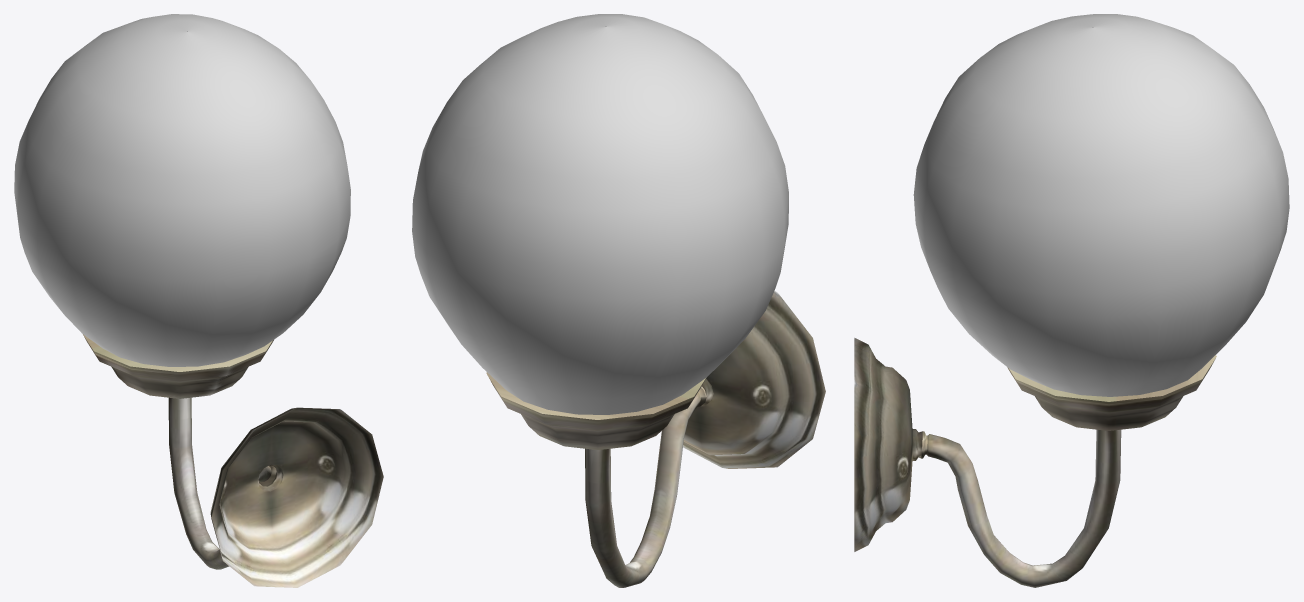
The model's file is Sconce03.fbx.
The picture shows the model from 3 angles, left to right: view 1: azimuth 30°, elevation 25°; view 2: azimuth 150°, elevation 25°; view 3: azimuth 270°, elevation 25°; orthographic projection. The views are drawn at different scales.
Visible parts, largest first — view 1: polySurface79, polySurface80, polySurface78; view 2: polySurface79, polySurface80, polySurface78; view 3: polySurface79, polySurface78, polySurface80.
Part boxes in pixels (bbox=[...]): polySurface79: bbox=[14, 14, 350, 366]; polySurface80: bbox=[210, 407, 383, 587]; polySurface78: bbox=[83, 334, 277, 569]; polySurface79: bbox=[412, 14, 788, 414]; polySurface80: bbox=[683, 291, 825, 468]; polySurface78: bbox=[486, 372, 706, 587]; polySurface79: bbox=[913, 14, 1289, 396]; polySurface78: bbox=[921, 355, 1216, 587]; polySurface80: bbox=[854, 337, 922, 551].
Bounding box in the file's own units: 0.2572 × 0.4377 × 0.3085.
